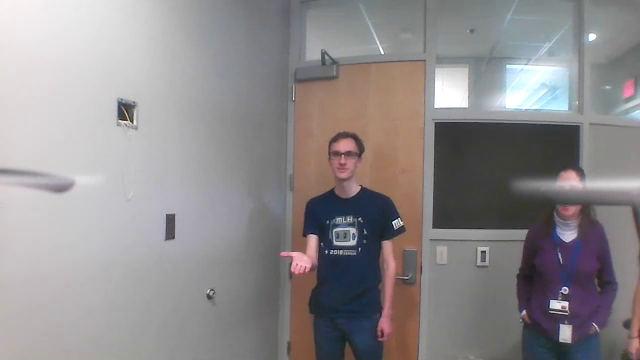land: (275, 245, 315, 275)
